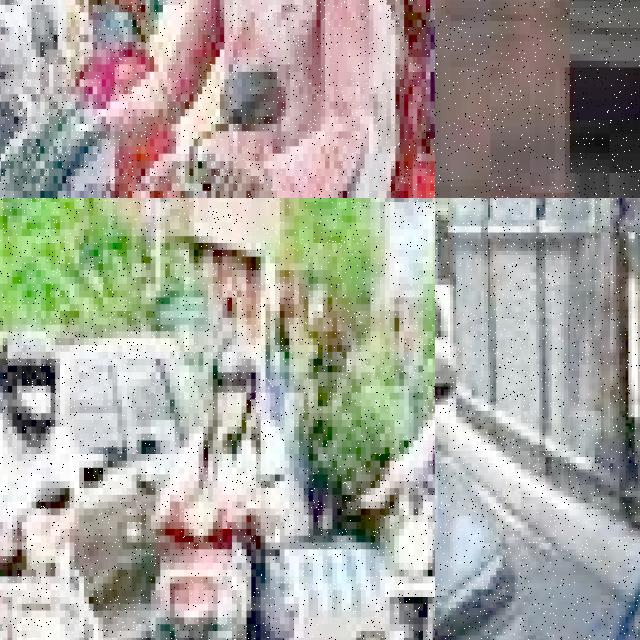bike: (0, 72, 435, 198), (141, 474, 317, 640), (0, 495, 136, 640), (351, 474, 435, 640)
car: (435, 198, 542, 640)
